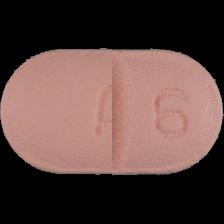67046-115: (0, 0, 224, 224)
